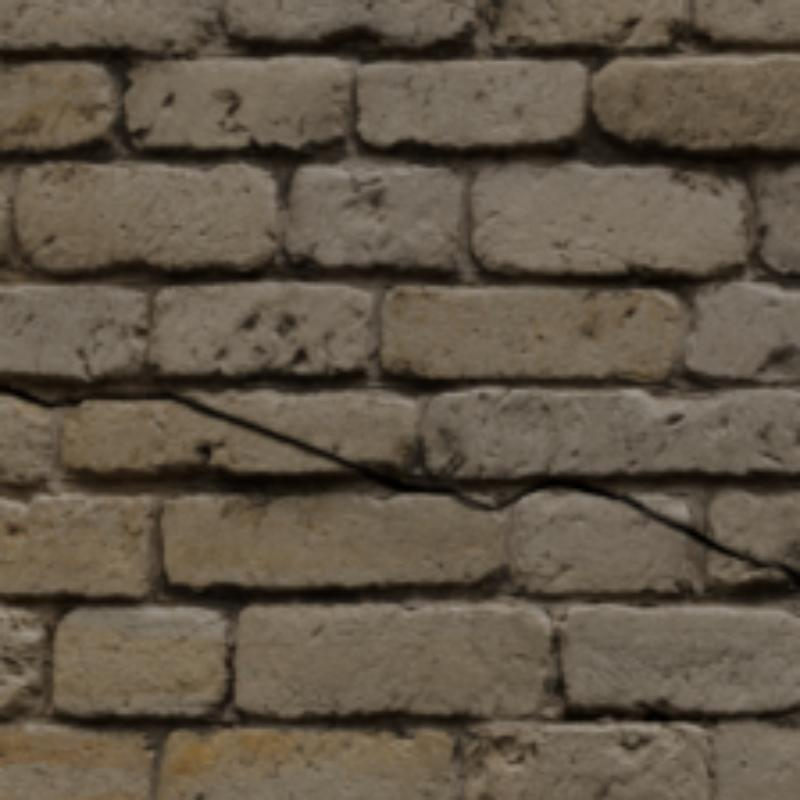pothole: (0, 382, 796, 582)
